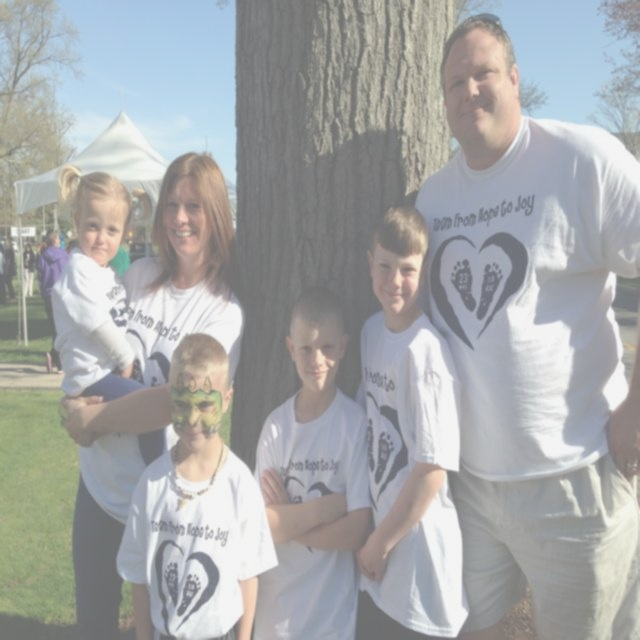pessoa: (405, 5, 639, 639), (62, 148, 246, 640), (112, 330, 283, 640), (354, 200, 472, 640), (250, 288, 373, 640), (47, 162, 170, 470), (36, 227, 69, 375), (108, 242, 137, 279), (4, 239, 18, 303), (23, 242, 36, 296), (58, 231, 80, 256), (0, 239, 7, 306), (35, 236, 47, 270), (8, 237, 15, 254), (36, 284, 42, 295)
